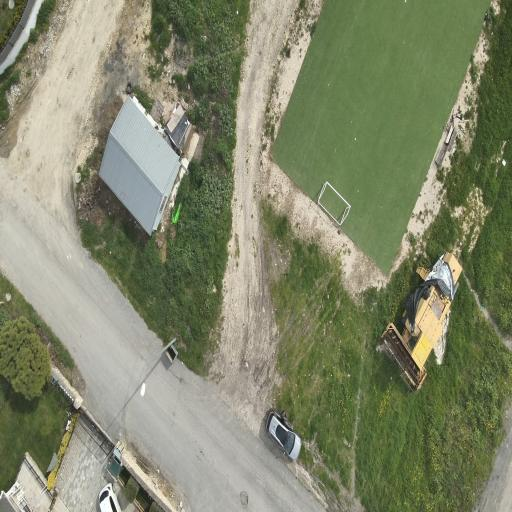car: (266, 409, 301, 460), (99, 484, 121, 511)
harvester: (381, 253, 461, 391)
